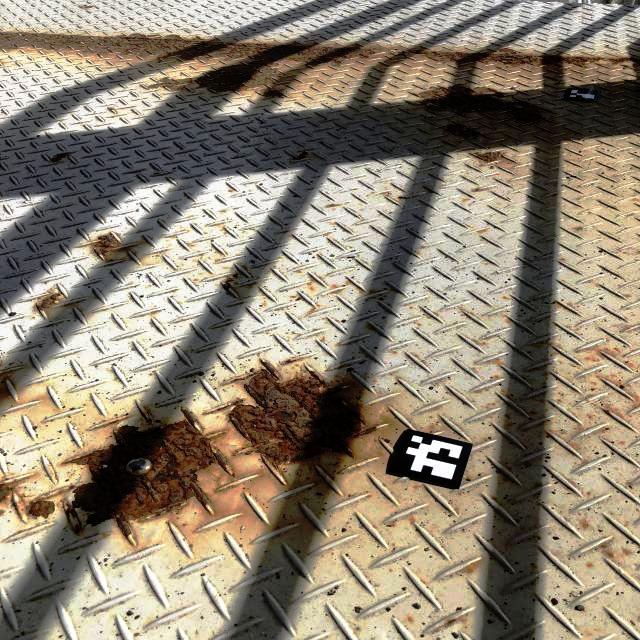Corrosion: (0, 32, 640, 93), (62, 406, 235, 537), (214, 359, 377, 466), (411, 83, 554, 127), (277, 453, 354, 480), (596, 374, 640, 421), (585, 346, 635, 369), (358, 407, 398, 435), (349, 433, 378, 461), (443, 119, 484, 138), (91, 233, 119, 257), (25, 499, 56, 519), (35, 292, 63, 313), (469, 150, 503, 165), (0, 480, 18, 505), (138, 402, 155, 423), (221, 272, 239, 291), (259, 87, 284, 99), (597, 540, 613, 558), (50, 152, 70, 163), (464, 559, 478, 573), (440, 617, 457, 628), (291, 150, 308, 161), (106, 417, 127, 425), (282, 357, 302, 364), (579, 520, 589, 528), (79, 4, 93, 9), (109, 108, 114, 111)
